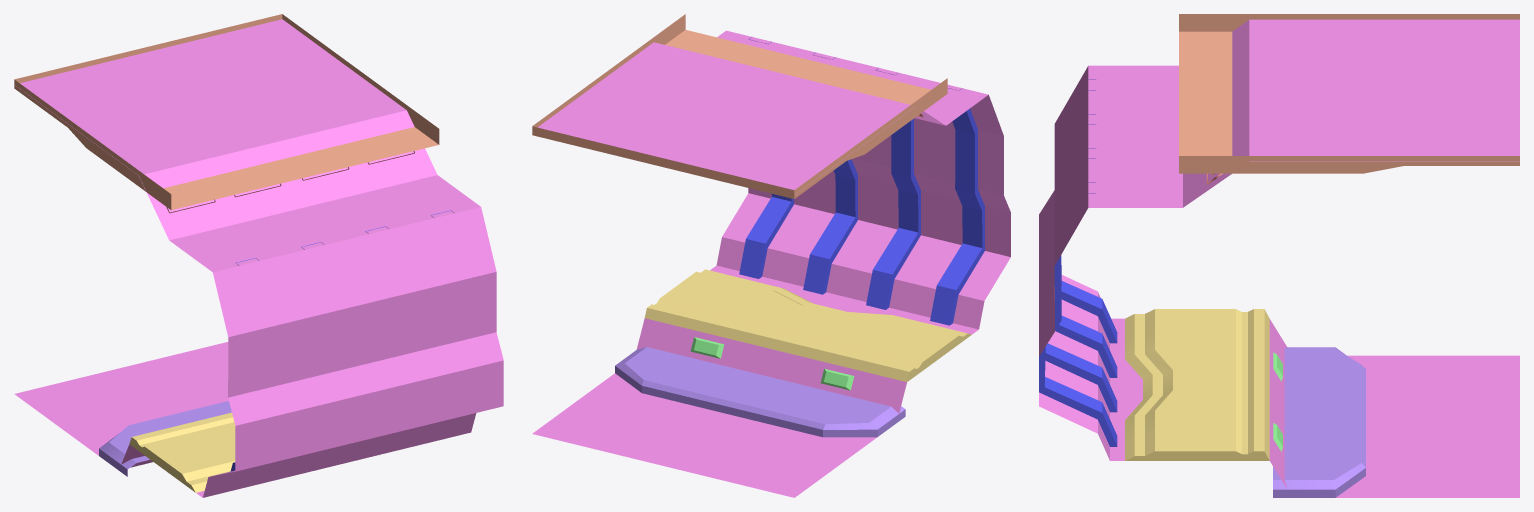
File: Stage02PartsA1_v2.0.FBX
The picture shows the model from 3 angles, left to right: view 1: azimuth 30°, elevation 25°; view 2: azimuth 150°, elevation 25°; view 3: azimuth 270°, elevation 25°; orthographic projection. The views are drawn at different scales.
Parts seen in each view (by area): view 1: PartsA1_v2.0_001; view 2: PartsA1_v2.0_001; view 3: PartsA1_v2.0_001.
Part boxes in pixels (x1,y1,x2,y2): PartsA1_v2.0_001: (14,14,503,497); PartsA1_v2.0_001: (532,14,1010,497); PartsA1_v2.0_001: (1039,14,1519,497).
Bounding box in the file's own units: 276 × 309 × 394.
